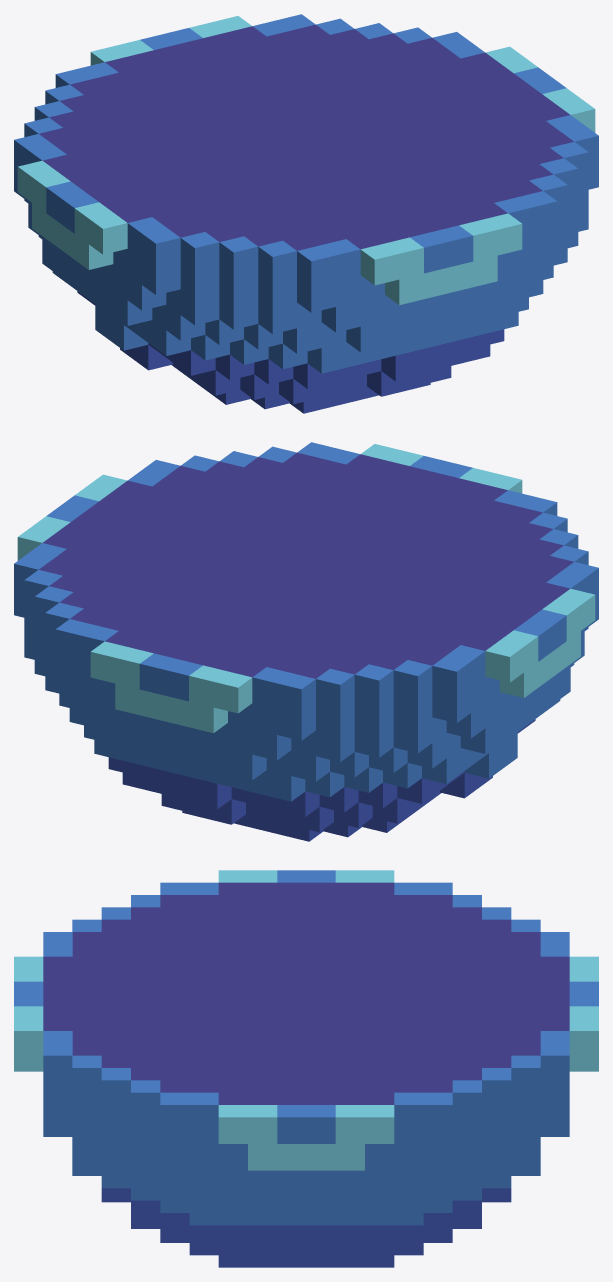
File: teapot_8.obj
3 views of the same model, one above another, from view 1: azimuth 30°, elevation 25°; view 2: azimuth 150°, elevation 25°; view 3: azimuth 270°, elevation 25° (orthographic). The views are drawn at different scales.
Size of the model in its own units: 2 by 0.8 by 2.
Materials: 1 (1 with a texture image).
